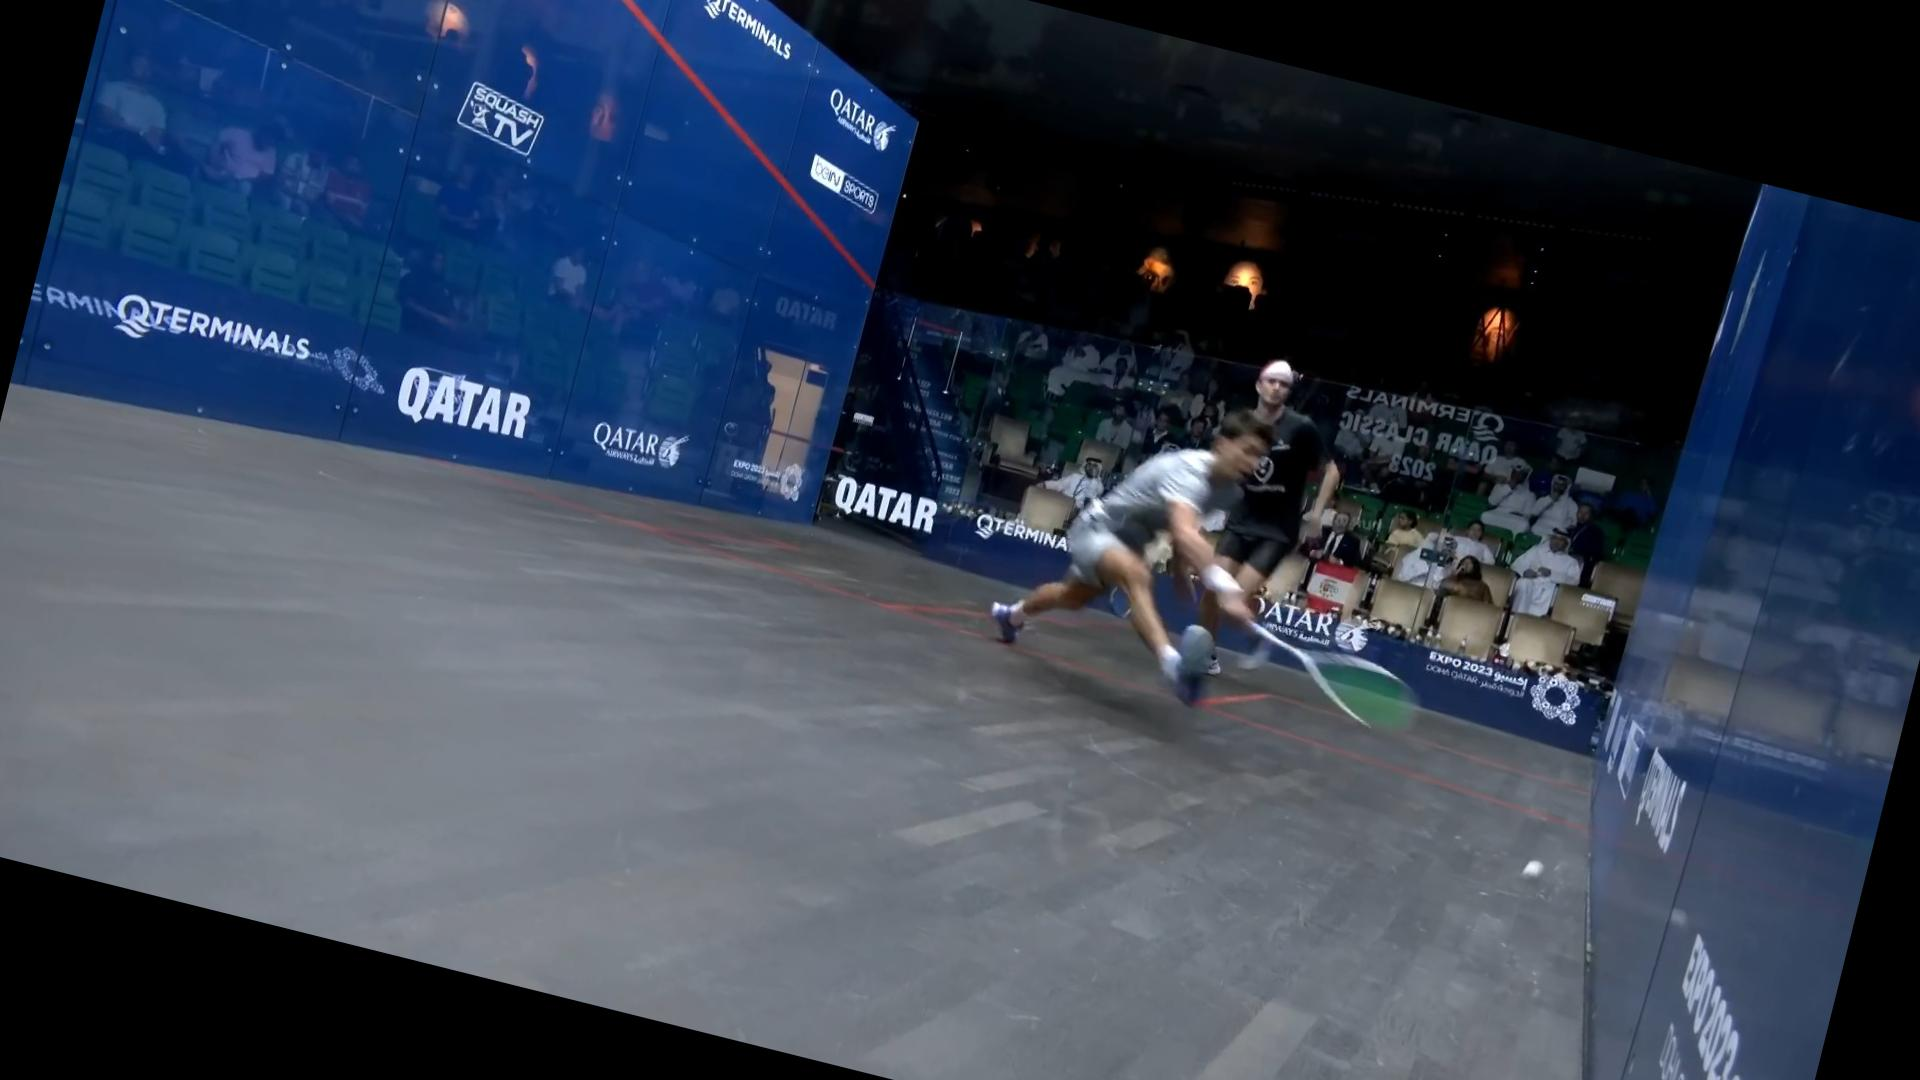Racket: (1218, 615, 1419, 740)
